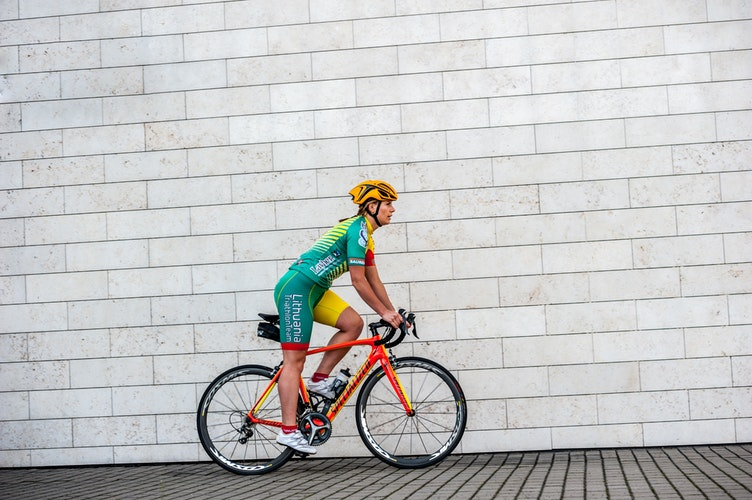helmet: (345, 177, 402, 212)
